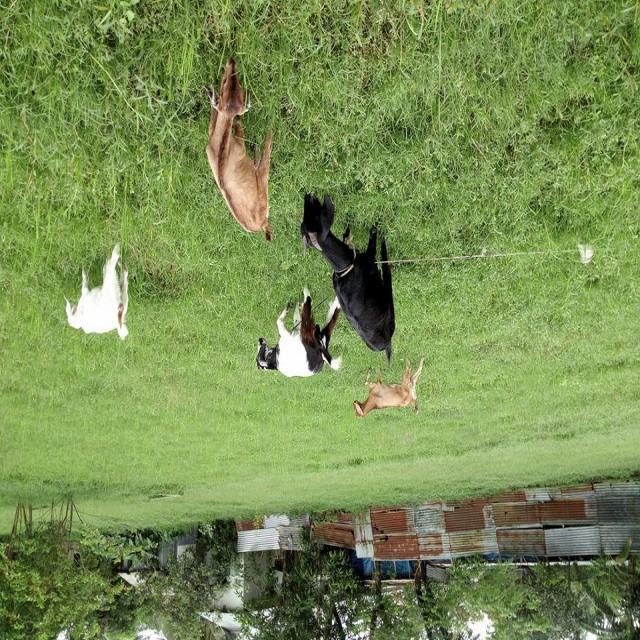Goat: (300, 192, 395, 365), (204, 57, 273, 243), (255, 285, 342, 379), (63, 239, 129, 341), (353, 357, 425, 420)
